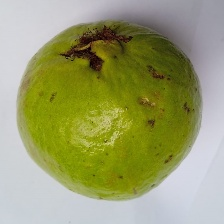guava: (12, 54, 206, 196)
